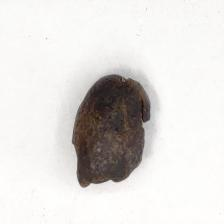NG: (73, 74, 150, 188)
